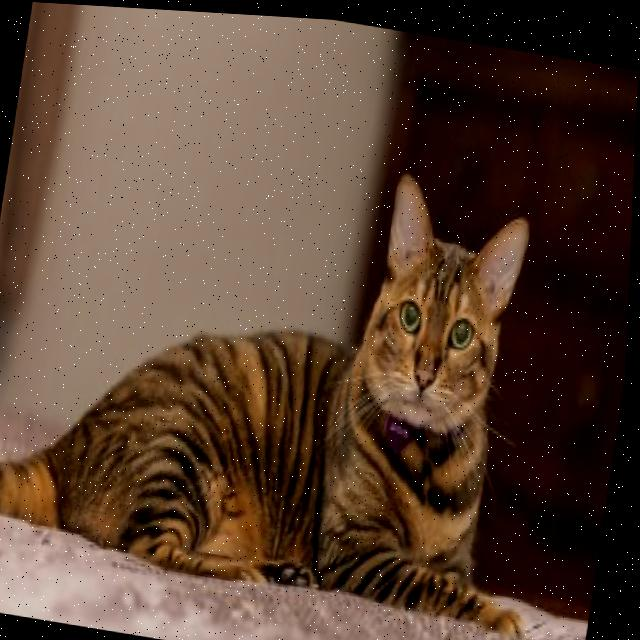Toyger: (0, 103, 595, 635)
